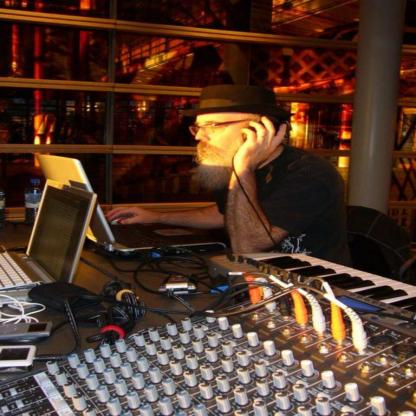board: (30, 152, 226, 255), (0, 175, 99, 291)
